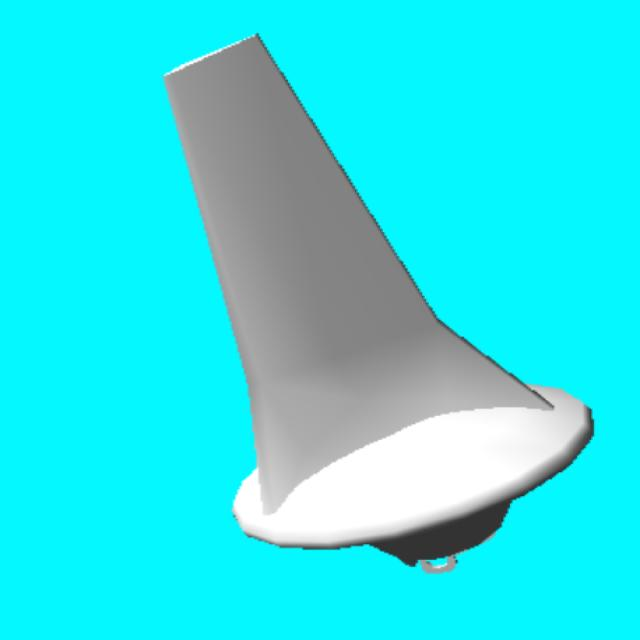WhiteBuoy: (165, 36, 593, 564)
